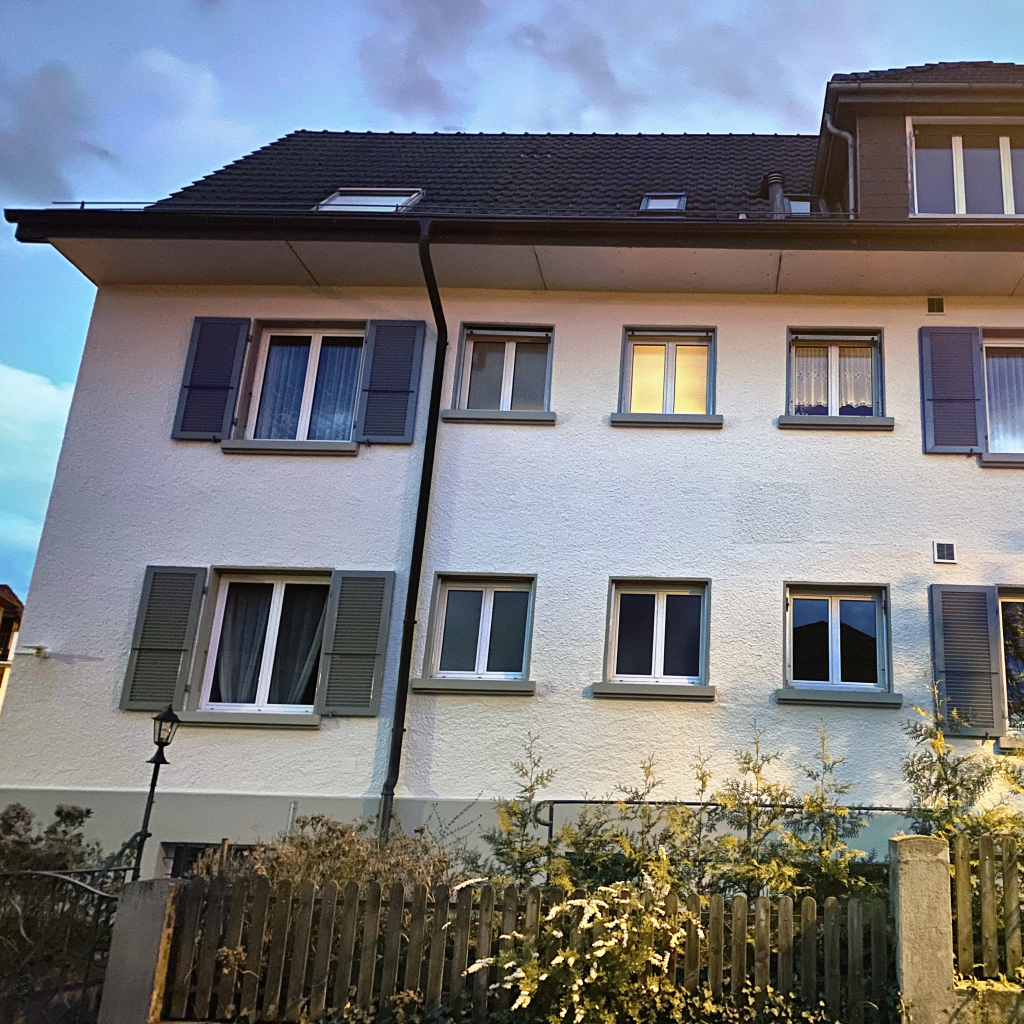glass_panel: (210, 582, 272, 703), (268, 584, 328, 704), (254, 336, 310, 439), (307, 337, 361, 440), (985, 346, 1023, 452), (486, 590, 529, 672), (439, 590, 482, 671), (962, 133, 1004, 214), (915, 129, 955, 213), (615, 593, 655, 675), (663, 594, 700, 677), (792, 598, 829, 681), (840, 599, 876, 684), (1001, 601, 1023, 728), (467, 340, 505, 409), (511, 341, 547, 409), (838, 346, 873, 415), (792, 345, 827, 414), (629, 345, 665, 412), (673, 345, 708, 413), (1010, 135, 1023, 213)
